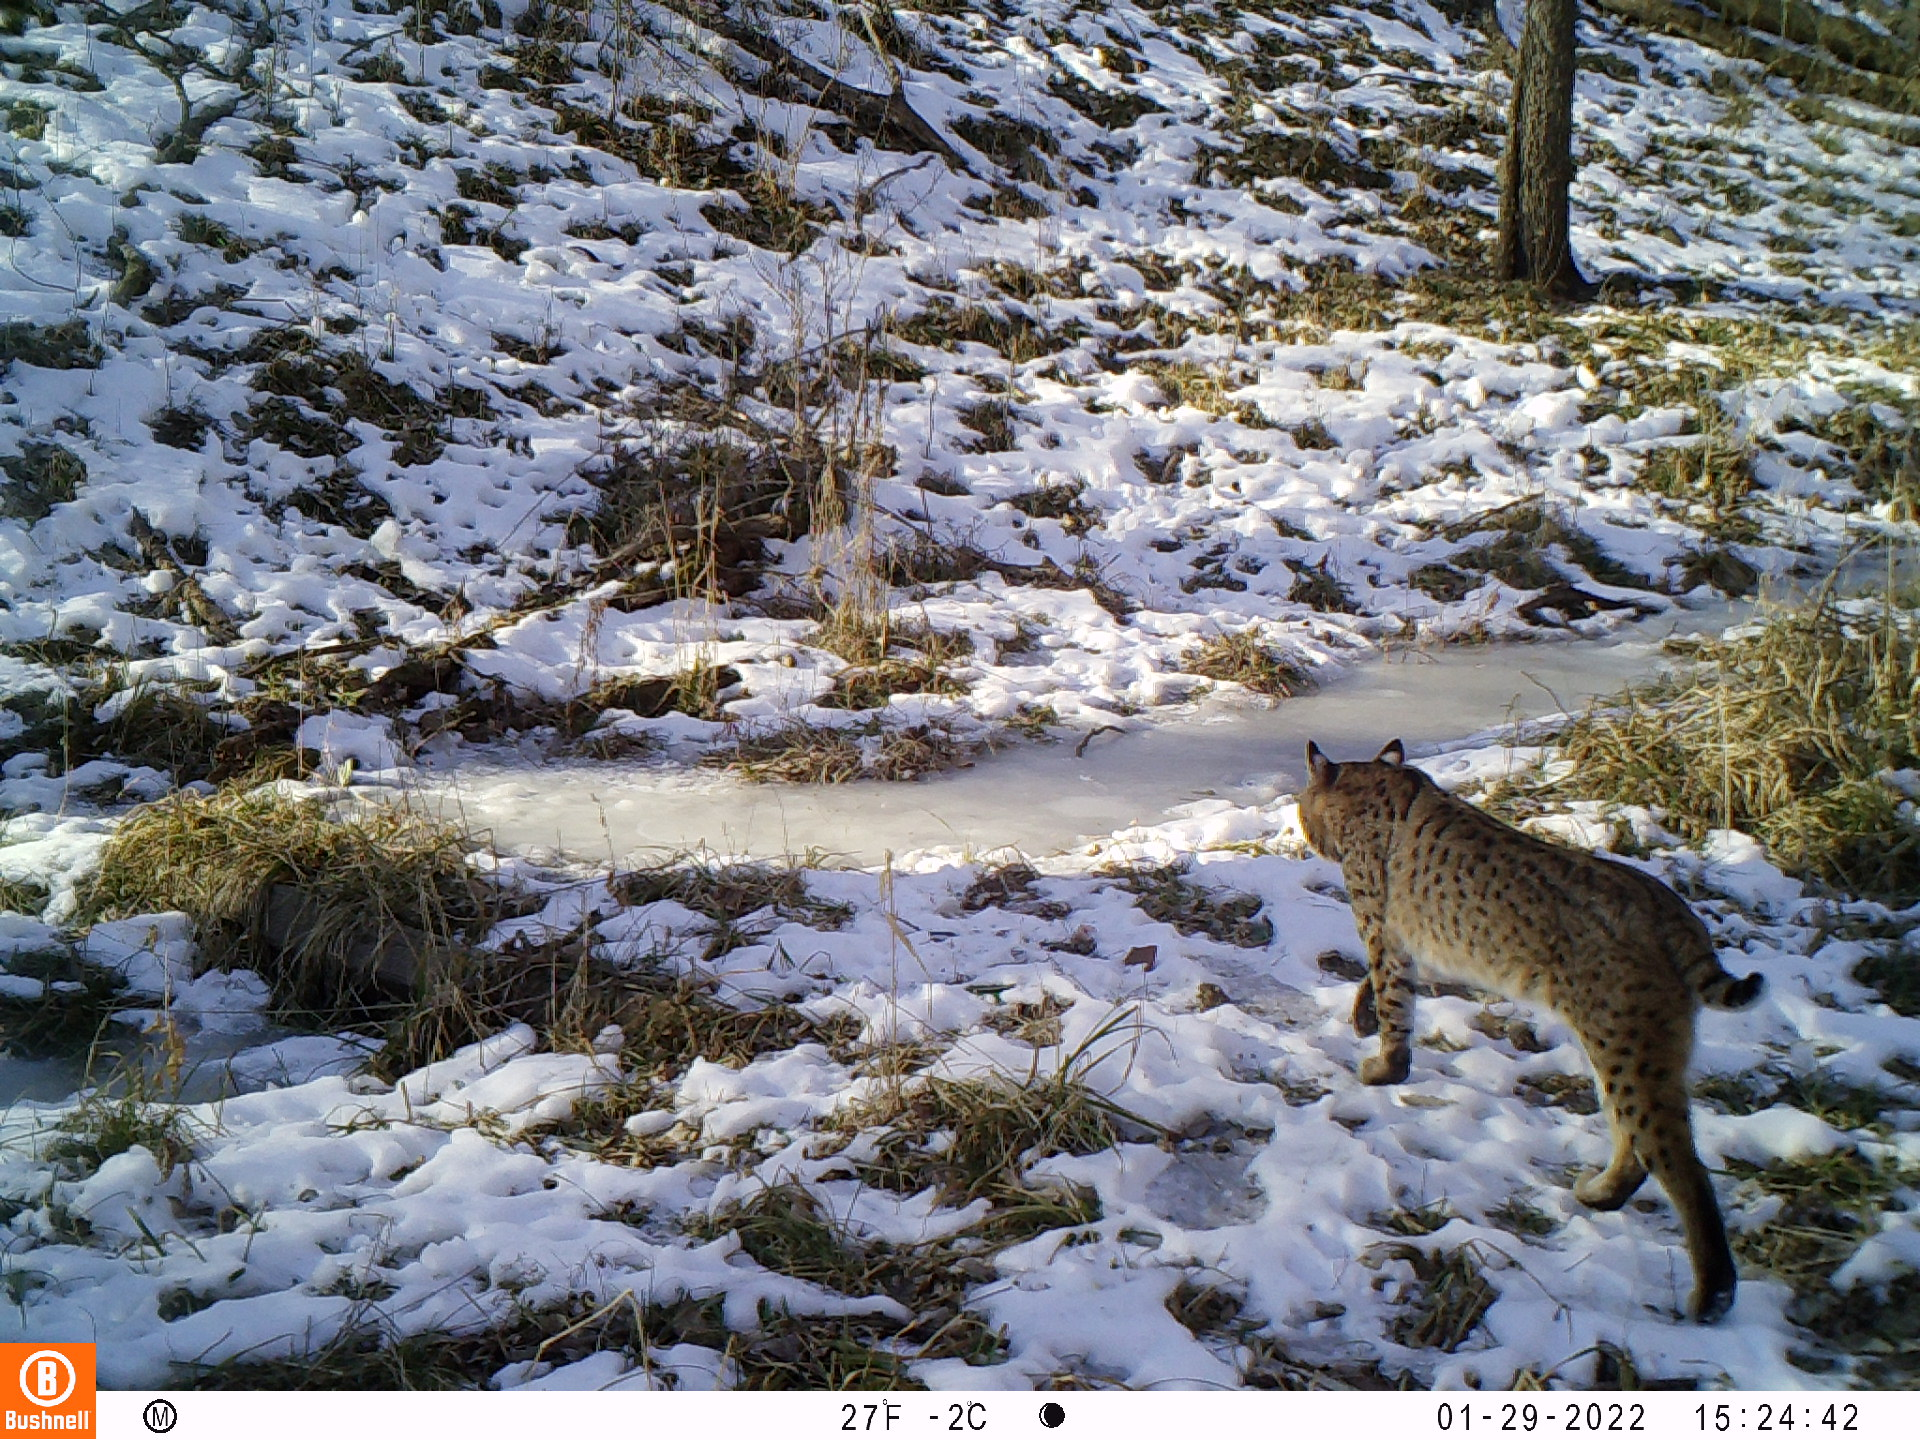Bobcat: (1296, 734, 1767, 1327)
